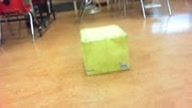cube: (80, 24, 130, 76)
